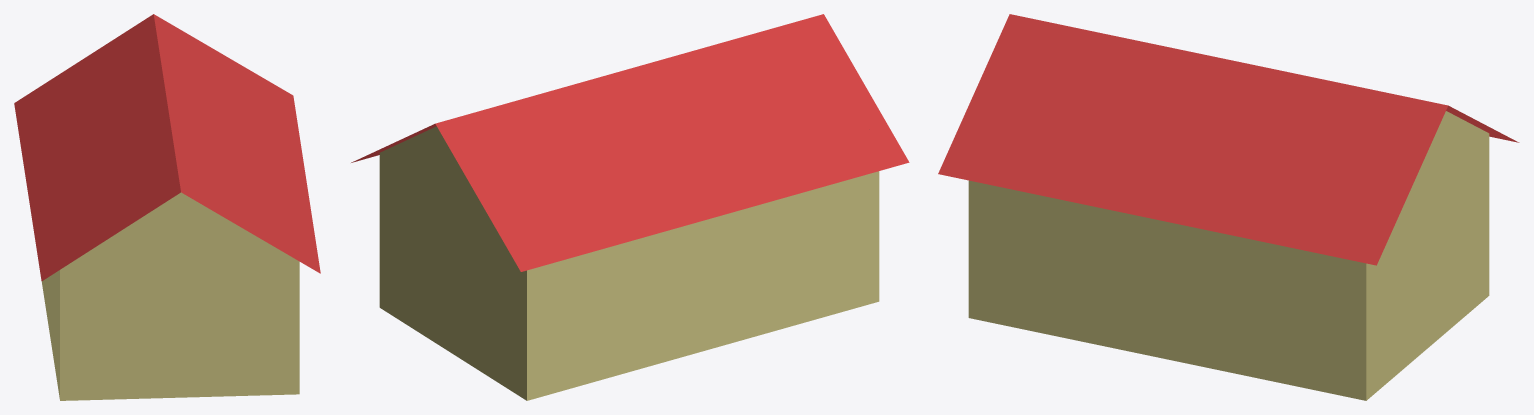
3 views of the same model, side by side, from view 1: azimuth 30°, elevation 25°; view 2: azimuth 150°, elevation 25°; view 3: azimuth 270°, elevation 25° (orthographic). The views are drawn at different scales.
Bounding box in the file's own units: 22.13 × 25.41 × 11.9.
